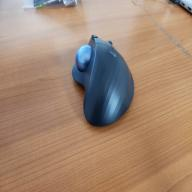mouse: (71, 33, 135, 128)
